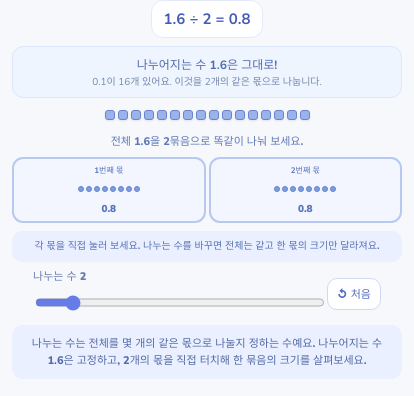
Test: 소수 나눗셈의 용어와 직접 조작 › 실제 몫 그림을 누르면 해당 묶음을 강조하고 나눈 결과를 설명한다
Step 1. Click the button "1번째 몫 0.8" → (109, 190), box [12,157,206,223]
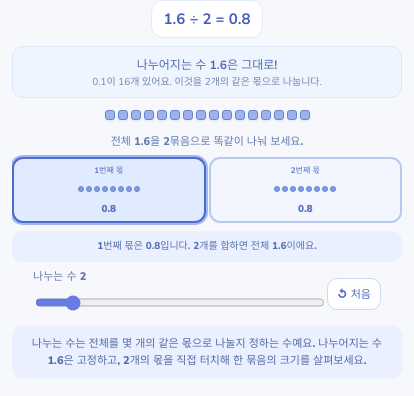
Now the text "1번째 몫은 0.8입니다. 2개를 합하면 전체 1.6이에요." is shown, box [12,231,402,262]
